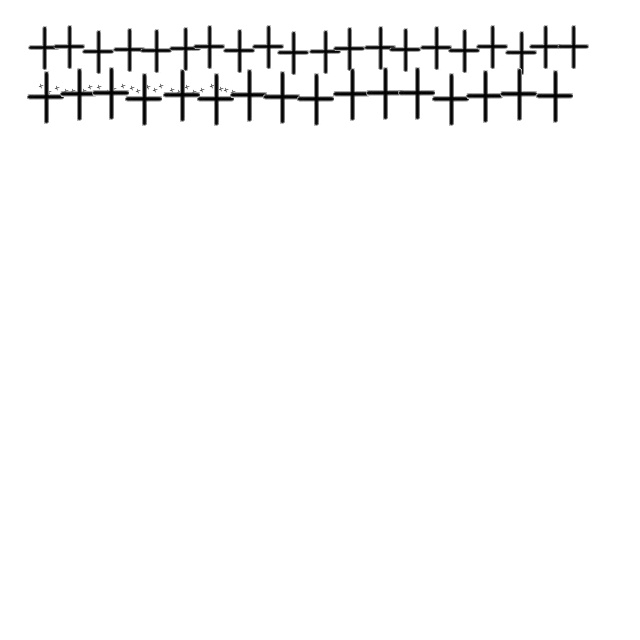double: (24, 71, 66, 125), (57, 68, 99, 122), (89, 67, 131, 121), (122, 73, 164, 127), (160, 69, 202, 123), (194, 73, 236, 127), (227, 69, 269, 123), (260, 71, 302, 125), (294, 73, 336, 127), (330, 68, 372, 122), (363, 67, 405, 121), (395, 67, 437, 121), (429, 73, 471, 127), (463, 70, 505, 124), (497, 68, 539, 122), (533, 70, 575, 124), (26, 26, 62, 72), (80, 30, 116, 76), (362, 26, 398, 72), (418, 26, 454, 72), (138, 30, 174, 74), (250, 26, 286, 70), (446, 30, 482, 74), (474, 26, 510, 70), (112, 28, 146, 74), (308, 30, 342, 76), (388, 28, 422, 74), (52, 26, 86, 70), (168, 28, 202, 72), (192, 26, 226, 70), (222, 30, 256, 74), (276, 32, 310, 76), (332, 28, 366, 72), (504, 32, 538, 76), (528, 26, 562, 70), (556, 26, 590, 70), (38, 83, 44, 89), (46, 89, 52, 95), (54, 85, 60, 91), (63, 88, 69, 94), (70, 88, 76, 94), (81, 88, 87, 94), (87, 84, 93, 90), (96, 84, 102, 90), (105, 89, 111, 95), (111, 86, 117, 92), (120, 83, 126, 89), (129, 85, 135, 91), (135, 88, 141, 94), (145, 84, 151, 90), (152, 87, 158, 93), (158, 83, 164, 89), (169, 87, 175, 93), (176, 89, 182, 95), (184, 84, 190, 90), (191, 89, 197, 95), (199, 87, 205, 93), (209, 83, 215, 89), (218, 86, 224, 92), (223, 87, 229, 93), (230, 89, 236, 95)
